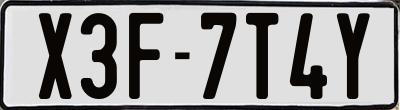3: (80, 13, 118, 101)
4: (290, 13, 330, 103)
7: (198, 13, 234, 104)
F: (129, 10, 168, 100)
T: (244, 10, 281, 102)
X: (36, 11, 70, 98)
Y: (335, 10, 373, 98)
